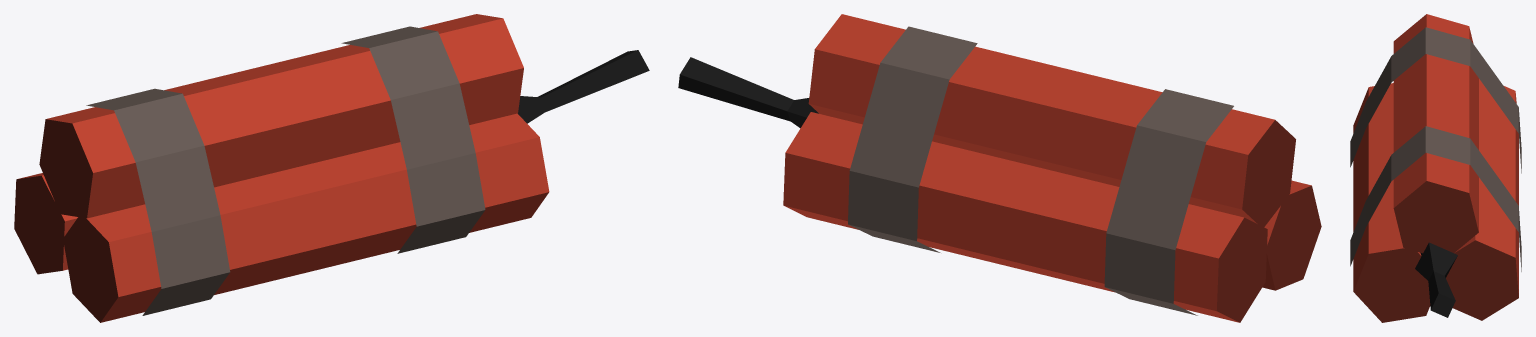
The model's file is Dynamite_3D.glb.
The picture shows the model from 3 angles, left to right: view 1: azimuth 30°, elevation 25°; view 2: azimuth 150°, elevation 25°; view 3: azimuth 270°, elevation 25°; orthographic projection. The views are drawn at different scales.
Visible parts, largest first — view 1: DynamiteLowpoly; view 2: DynamiteLowpoly; view 3: DynamiteLowpoly.
Boxes of the visible parts, bbox=[...] form: DynamiteLowpoly: bbox=[14, 14, 649, 322]; DynamiteLowpoly: bbox=[678, 14, 1321, 322]; DynamiteLowpoly: bbox=[1350, 14, 1521, 322].
Size of the model in its own units: 0.3435 by 0.1048 by 0.1106.
Materials: 1 (1 with a texture image).
